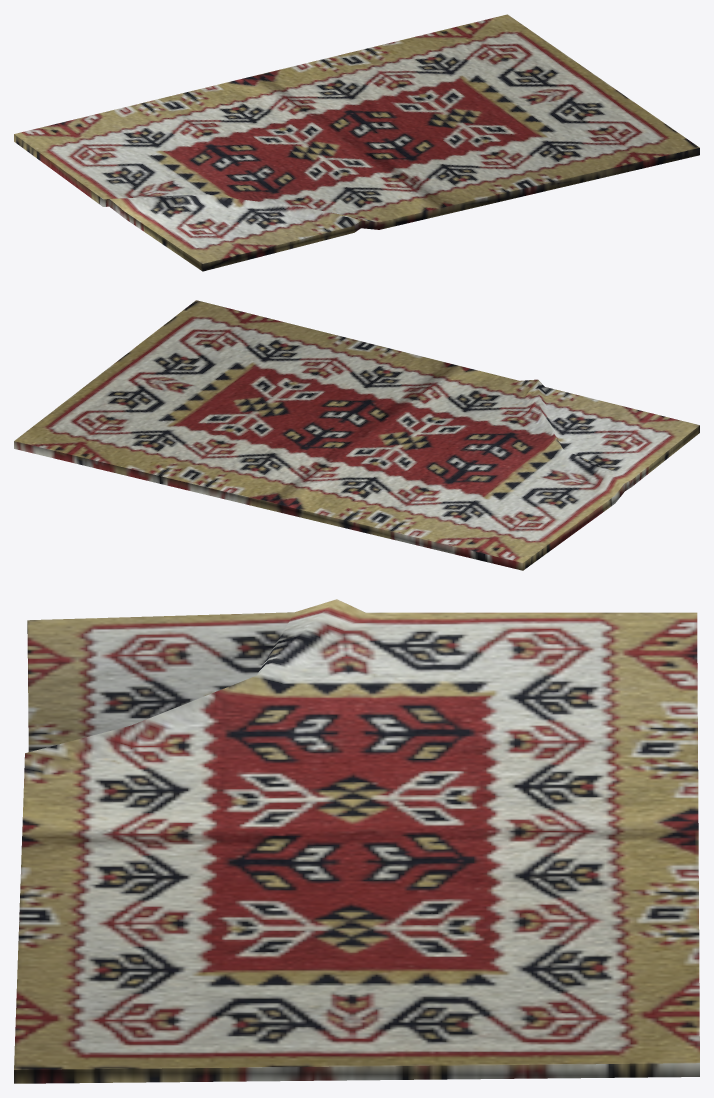
File: carpet_2.fbx
3 renders of one model, top to bottom at view 1: azimuth 30°, elevation 25°; view 2: azimuth 150°, elevation 25°; view 3: azimuth 270°, elevation 25°, orthographic. The views are drawn at different scales.
Parts seen in each view (by area): view 1: carpet_2; view 2: carpet_2; view 3: carpet_2.
Boxes of the visible parts, x1=… form: carpet_2: x1=14, y1=14, x2=699, y2=271; carpet_2: x1=14, y1=300, x2=699, y2=570; carpet_2: x1=14, y1=599, x2=699, y2=1083.
Bounding box in the file's own units: 170 × 4.97 × 108.
